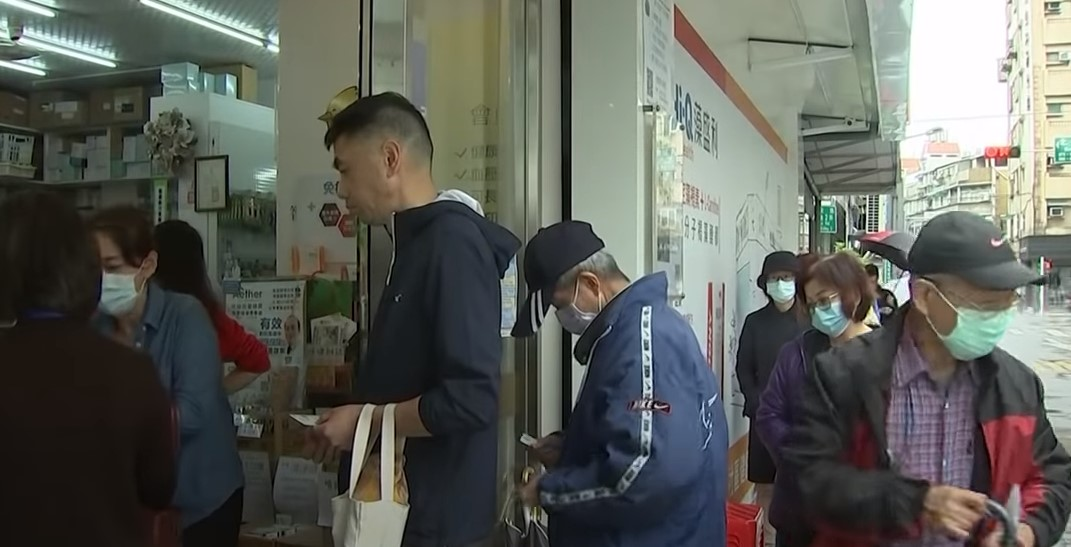face_no_mask: (330, 93, 433, 228)
face_with_mask: (906, 210, 1039, 359), (530, 222, 618, 335), (87, 204, 162, 314), (802, 251, 870, 340), (756, 251, 797, 309)
